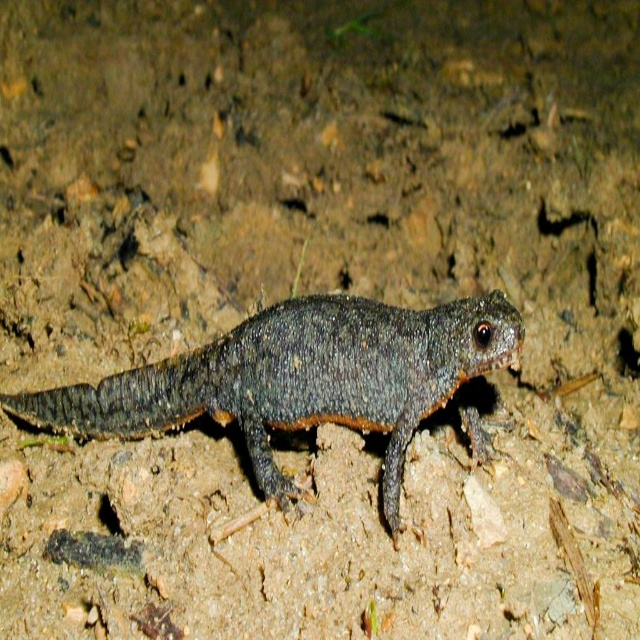Lizard: (1, 289, 526, 550)
